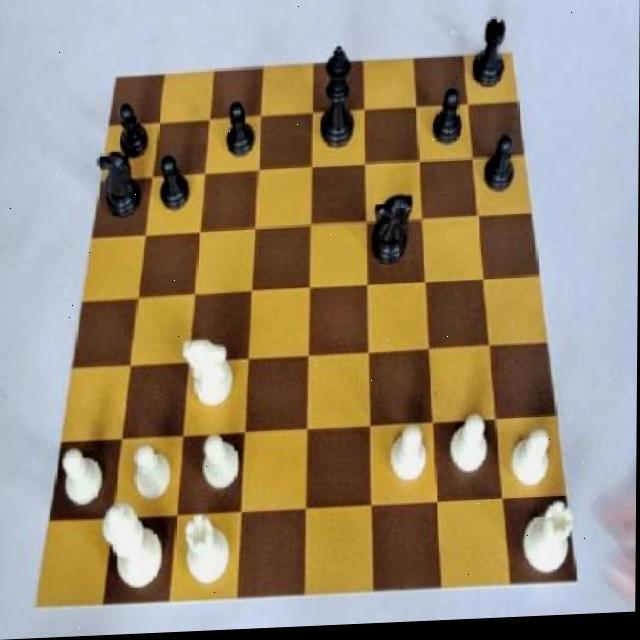black-bishop: (318, 45, 357, 153)
black-king: (369, 195, 417, 279), (94, 150, 145, 228)
black-knight: (157, 149, 197, 224), (480, 134, 522, 201), (425, 91, 471, 150), (217, 102, 259, 166), (115, 102, 154, 166)
black-queen: (468, 19, 510, 98)
white-bishop: (101, 500, 173, 605)
white-king: (179, 328, 242, 422)
white-knight: (57, 436, 107, 513), (126, 440, 177, 509), (200, 430, 245, 505), (383, 428, 431, 496), (506, 430, 556, 494), (445, 415, 490, 481)
white-queen: (518, 500, 577, 586), (181, 511, 234, 599)
